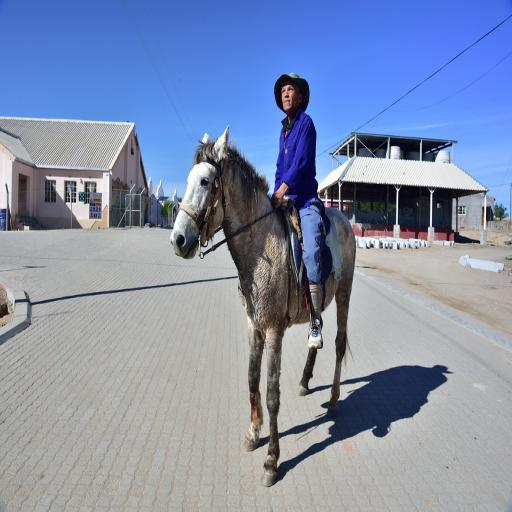Horse: (168, 124, 354, 484)
